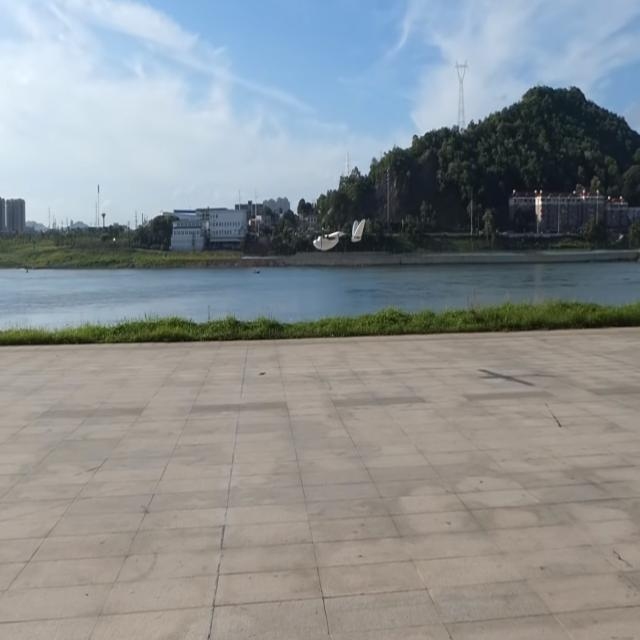iha: (313, 219, 366, 252)
